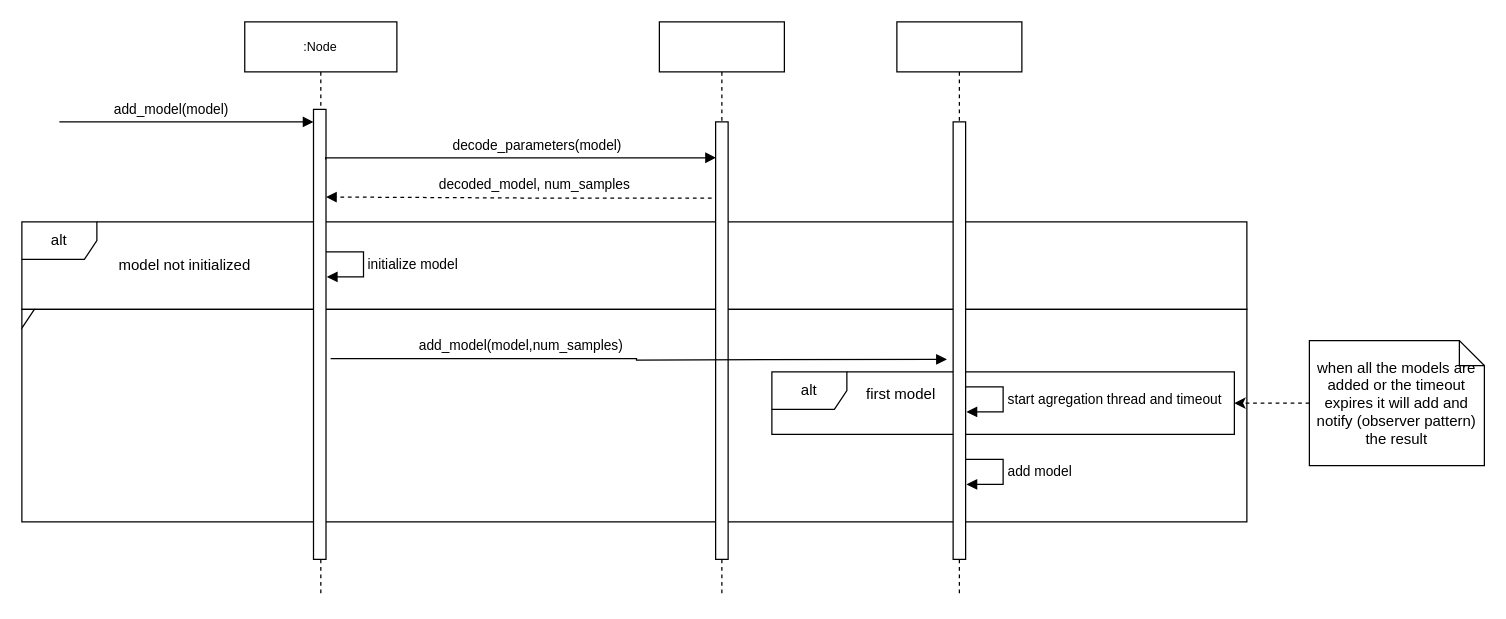
Image size: 1506x619. Some labels were removed from this diagram. Here are the shapes that lost their labels. From the top down, the box of each, then its label:
(658, 21, 784, 597): :Learner
(896, 21, 1022, 597): :FedAvg
